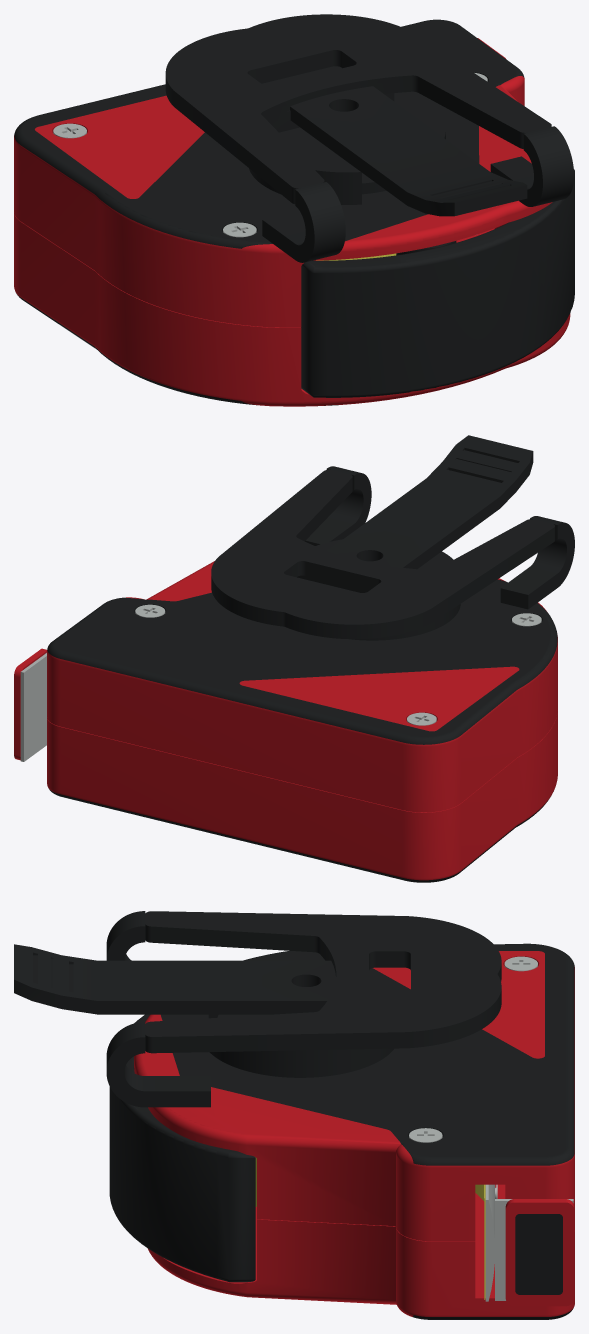
File: hultafors_bt5m_retracted.glb
The picture shows the model from 3 angles, top to bottom: view 1: azimuth 30°, elevation 25°; view 2: azimuth 150°, elevation 25°; view 3: azimuth 270°, elevation 25°; orthographic projection. The views are drawn at different scales.
Parts seen in each view (by area): view 1: belt_clip_and_release_tongue, thumb_brake, rear_abs_shell, front_abs_shell, rear_rubber_impact_domain, front_rubber_impact_domain; view 2: rear_abs_shell, belt_clip_and_release_tongue, rear_rubber_impact_domain, front_abs_shell, sliding_steel_end_hook, front_rubber_impact_domain, end_hook_rubber_face; view 3: belt_clip_and_release_tongue, rear_abs_shell, rear_rubber_impact_domain, front_abs_shell, thumb_brake, end_hook_black_impact_pad, end_hook_rubber_face, sliding_steel_end_hook.
Boxes of the visible parts, x1,y1,x2,y2 form: belt_clip_and_release_tongue: [165, 14, 573, 262]; thumb_brake: [301, 169, 574, 397]; rear_abs_shell: [14, 76, 552, 327]; front_abs_shell: [14, 213, 570, 406]; rear_rubber_impact_domain: [14, 19, 524, 248]; front_rubber_impact_domain: [16, 293, 338, 406]; rear_abs_shell: [47, 561, 557, 812]; belt_clip_and_release_tongue: [211, 435, 574, 640]; rear_rubber_impact_domain: [47, 579, 557, 744]; front_abs_shell: [47, 710, 557, 880]; sliding_steel_end_hook: [20, 653, 46, 761]; front_rubber_impact_domain: [48, 788, 553, 882]; end_hook_rubber_face: [14, 648, 46, 760]; belt_clip_and_release_tongue: [14, 911, 501, 1107]; rear_abs_shell: [134, 951, 574, 1241]; rear_rubber_impact_domain: [161, 943, 574, 1165]; front_abs_shell: [147, 1184, 574, 1316]; thumb_brake: [109, 1014, 255, 1282]; end_hook_black_impact_pad: [515, 1214, 562, 1294]; end_hook_rubber_face: [505, 1199, 574, 1306]; sliding_steel_end_hook: [485, 1184, 573, 1301].
Size of the model in its own units: 0.0921 by 0.0453 by 0.094.
